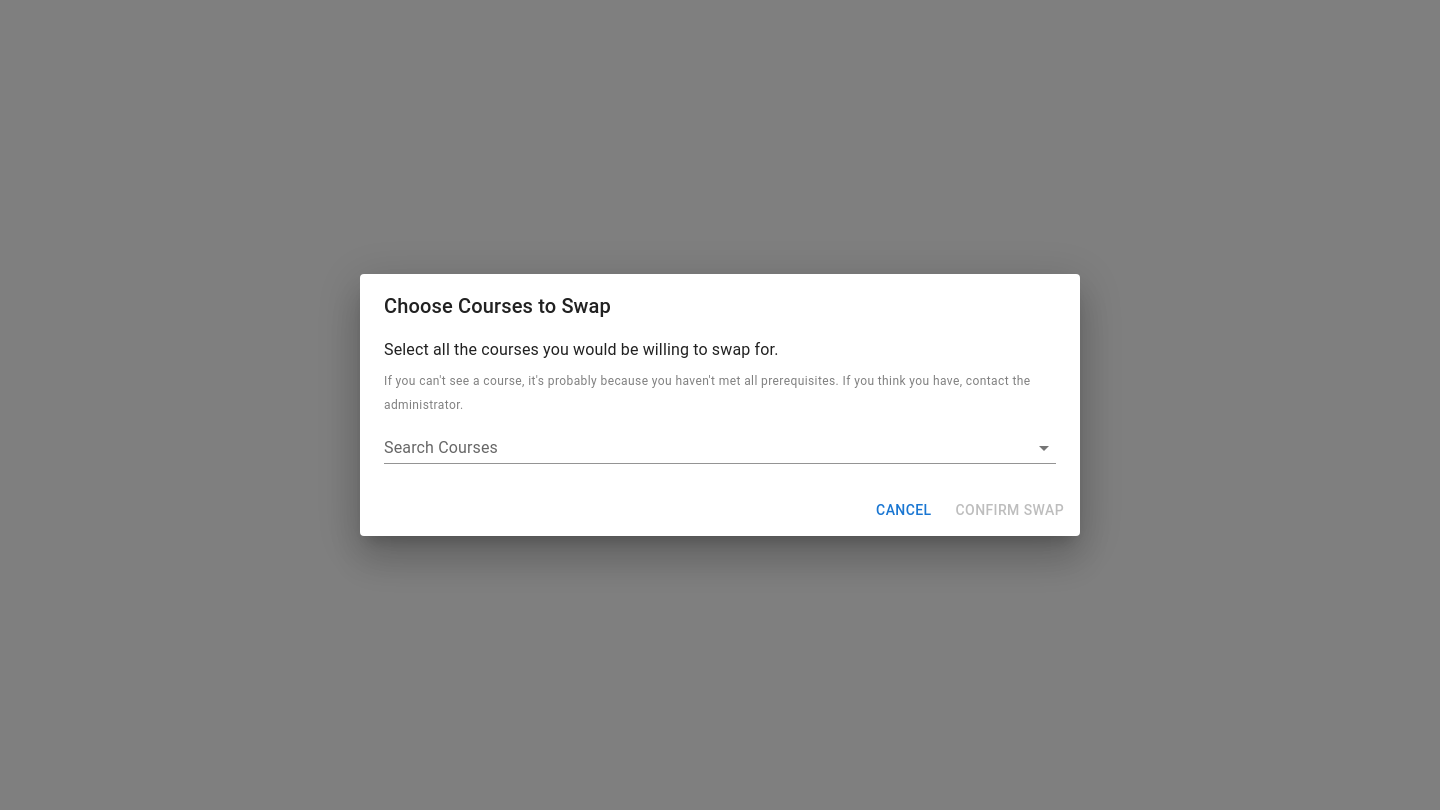
Test: SwapForm › loads and displays available courses
Note: Trigger the Autocomplete dropdown
Press the mouse on the dropdown labelled "Search Courses" at (705, 447), box [384, 432, 1026, 462]
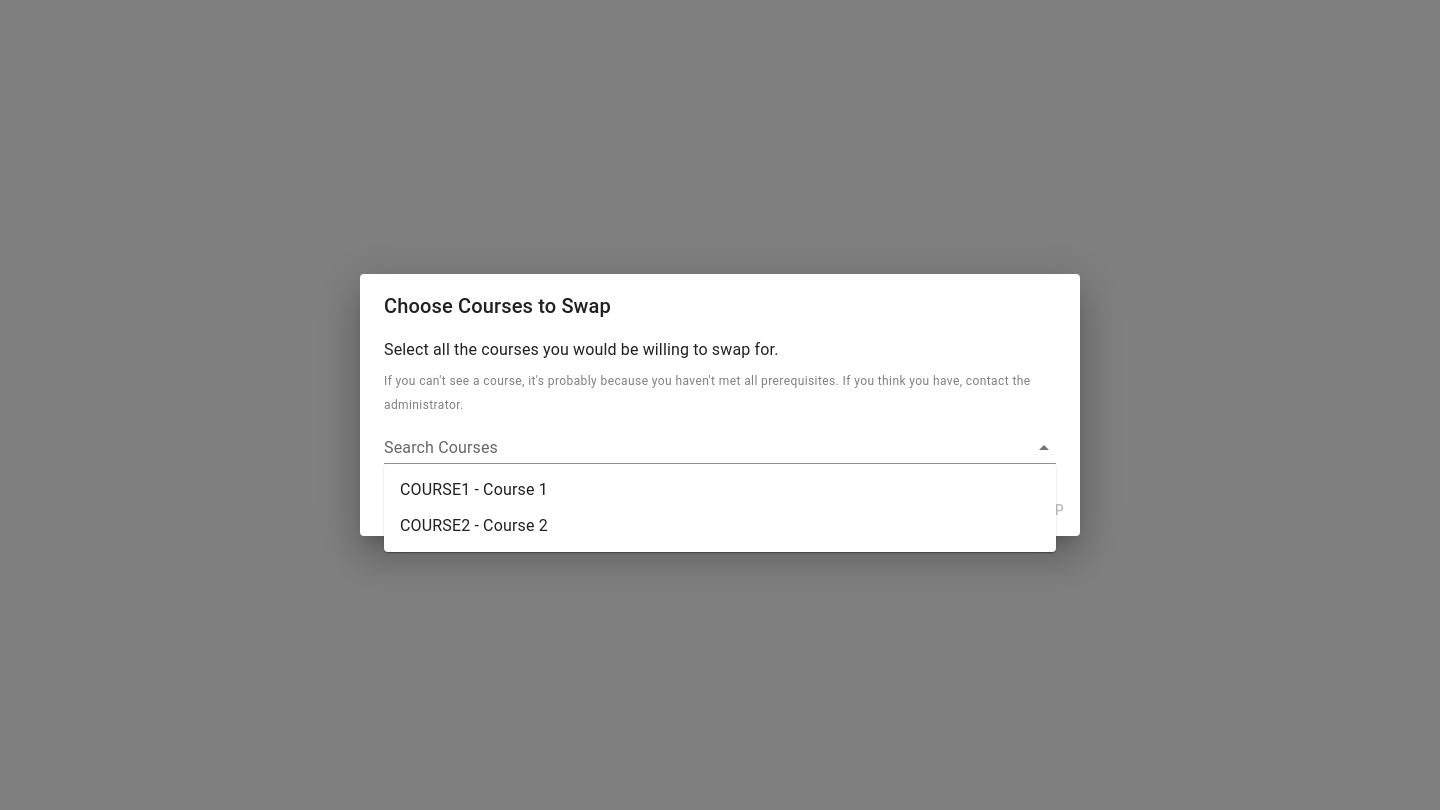
Result: the option "COURSE1 - Course 1" is shown at [400, 480, 548, 499]
